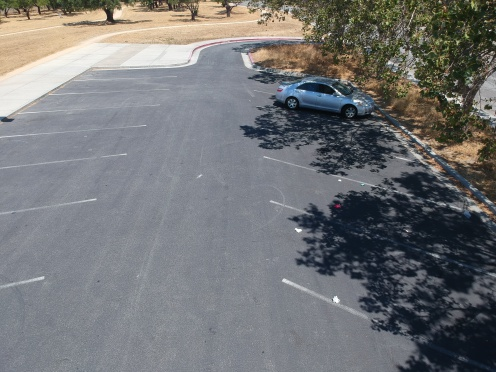plastic bag: (330, 199, 346, 209)
